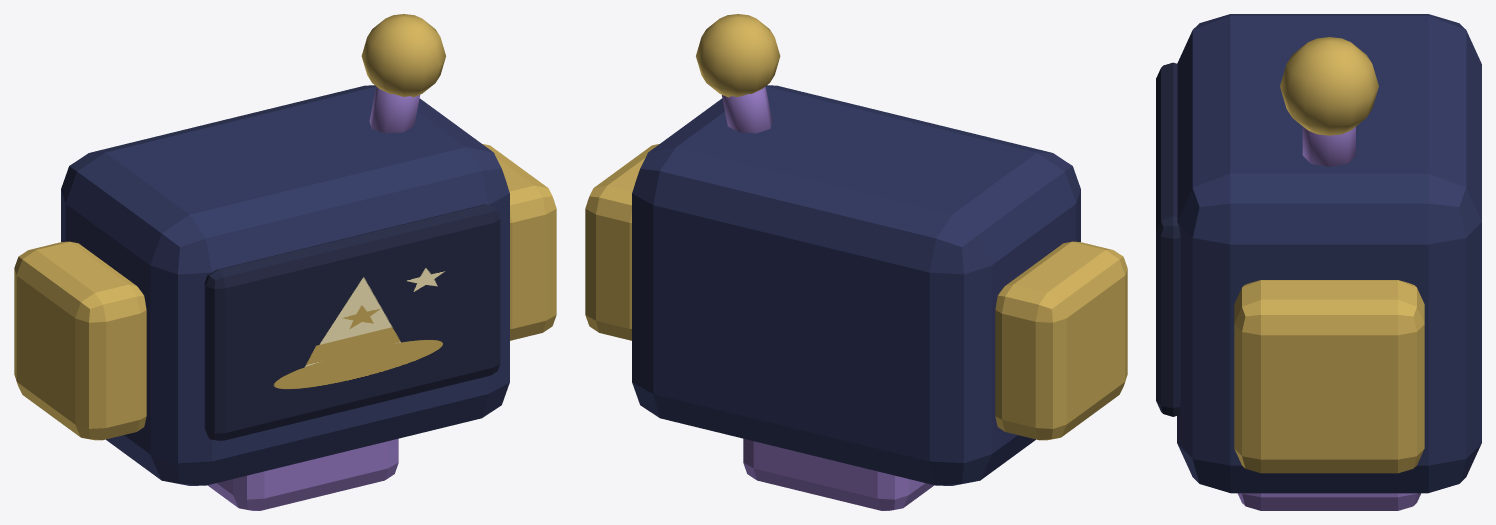
Rendered from ACC_TH_ROBOT_Primary.fbx.
3 renders of one model, left to right at view 1: azimuth 30°, elevation 25°; view 2: azimuth 150°, elevation 25°; view 3: azimuth 270°, elevation 25°, orthographic. The views are drawn at different scales.
Visible parts, largest first — view 1: ACC_TH_ROBOT_Primary; view 2: ACC_TH_ROBOT_Primary; view 3: ACC_TH_ROBOT_Primary.
Part boxes in pixels (x1,y1,x2,y2): ACC_TH_ROBOT_Primary: (14, 14, 556, 510); ACC_TH_ROBOT_Primary: (585, 14, 1127, 510); ACC_TH_ROBOT_Primary: (1156, 14, 1481, 510).
Size of the model in its own units: 85 by 72.5 by 42.75.
